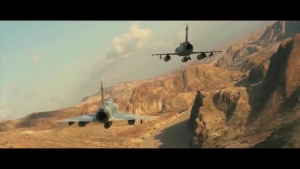flight: (56, 81, 152, 130), (150, 23, 222, 64)
